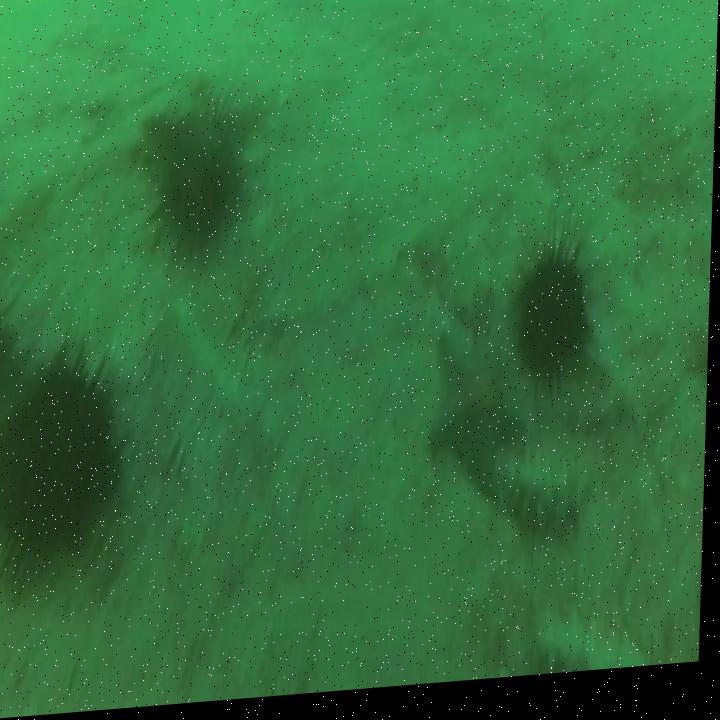holothurian: (485, 439, 603, 567)
scallop: (0, 327, 136, 601), (129, 80, 264, 283), (507, 218, 611, 415)
starfish: (425, 319, 537, 507)
